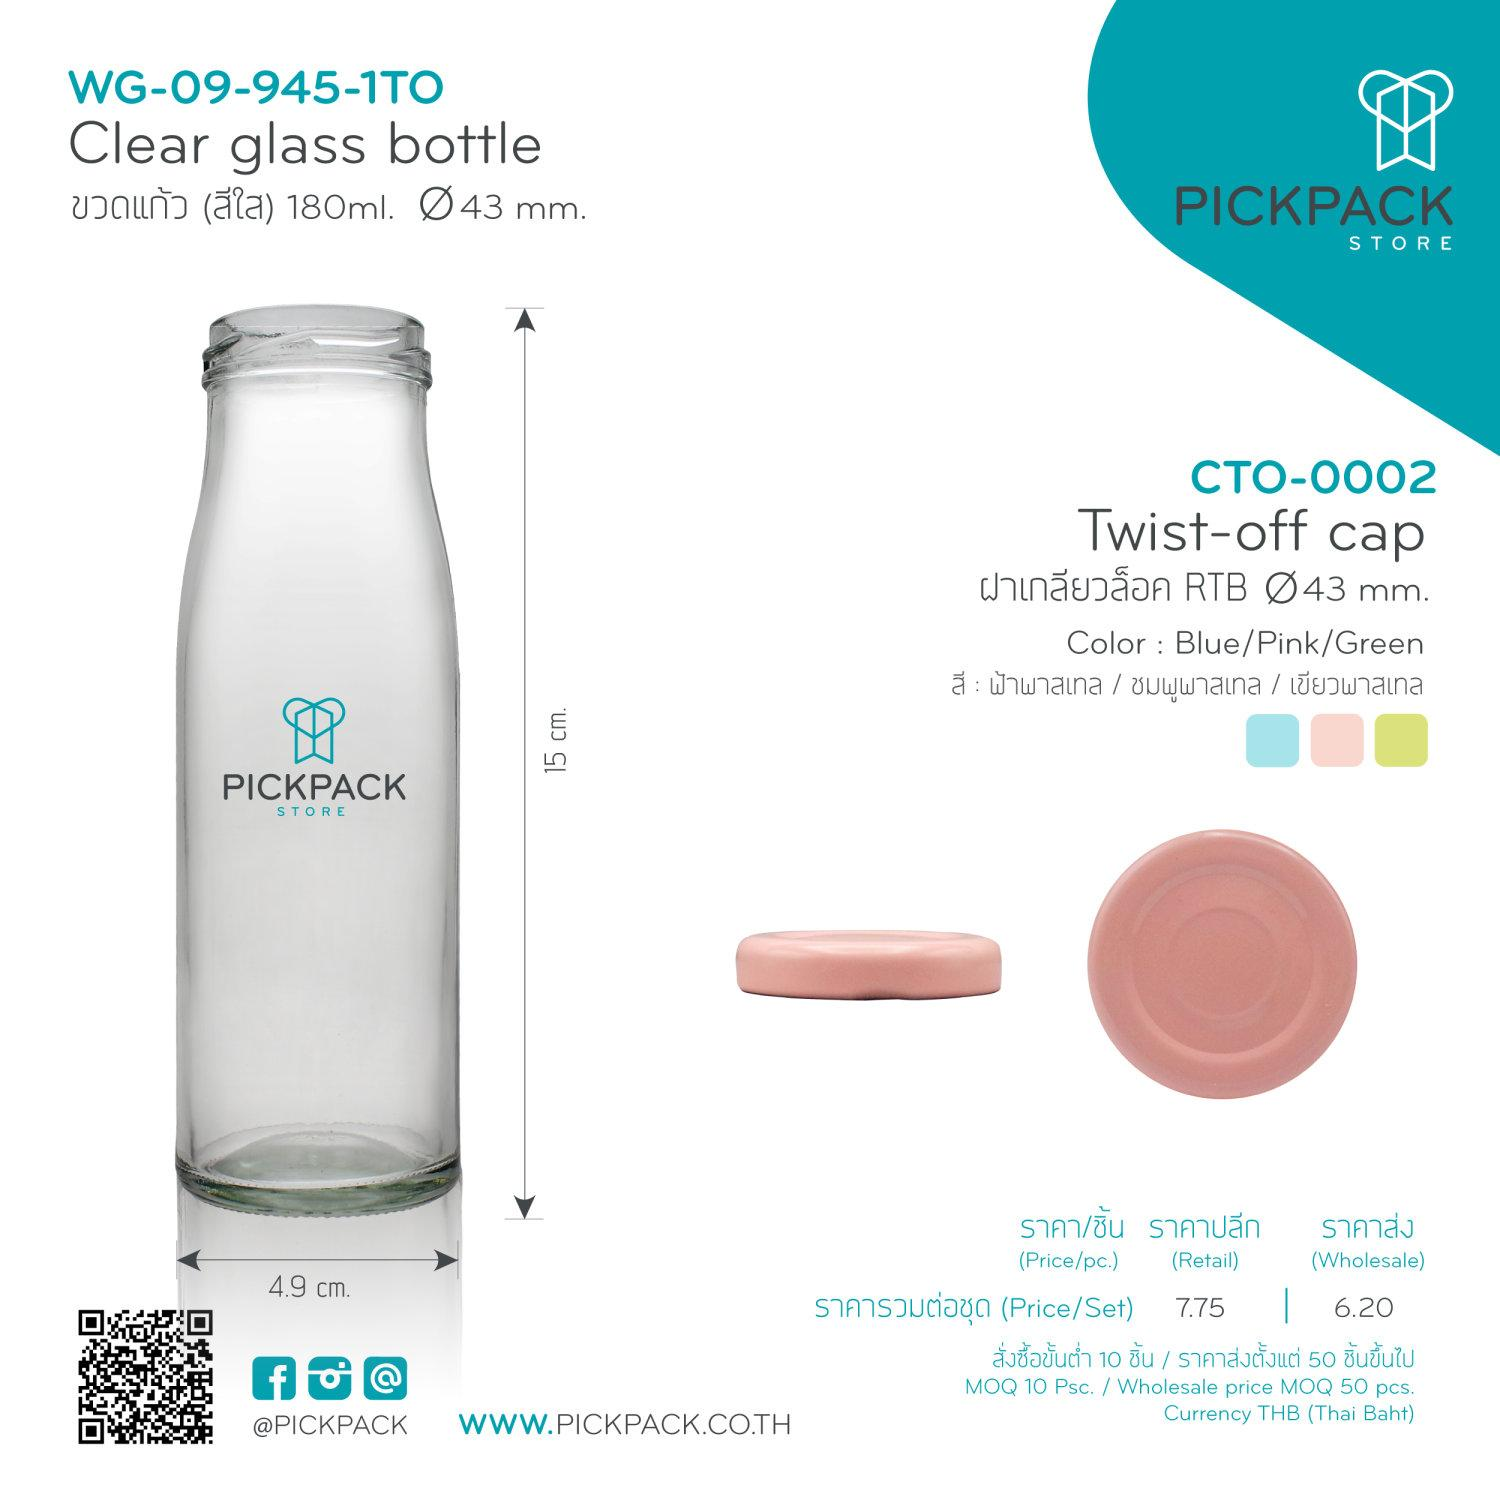glass_bottle: (162, 305, 474, 1221)
